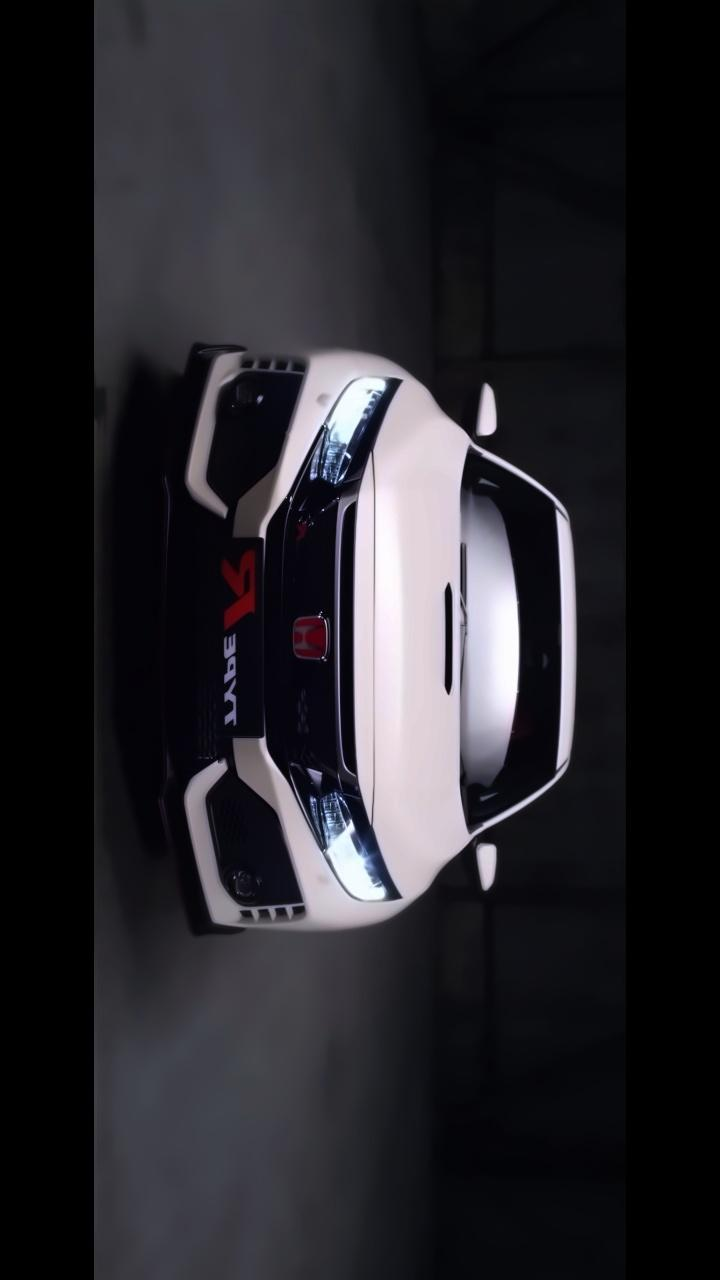Car hood: (342, 360, 477, 903)
Front bumper: (176, 332, 381, 943)
Headlight - -L-: (294, 762, 399, 915)
Headlight - -R-: (299, 372, 406, 511)
Side mirror - -L-: (452, 826, 504, 894)
Side mirror - -R-: (461, 364, 500, 456)
